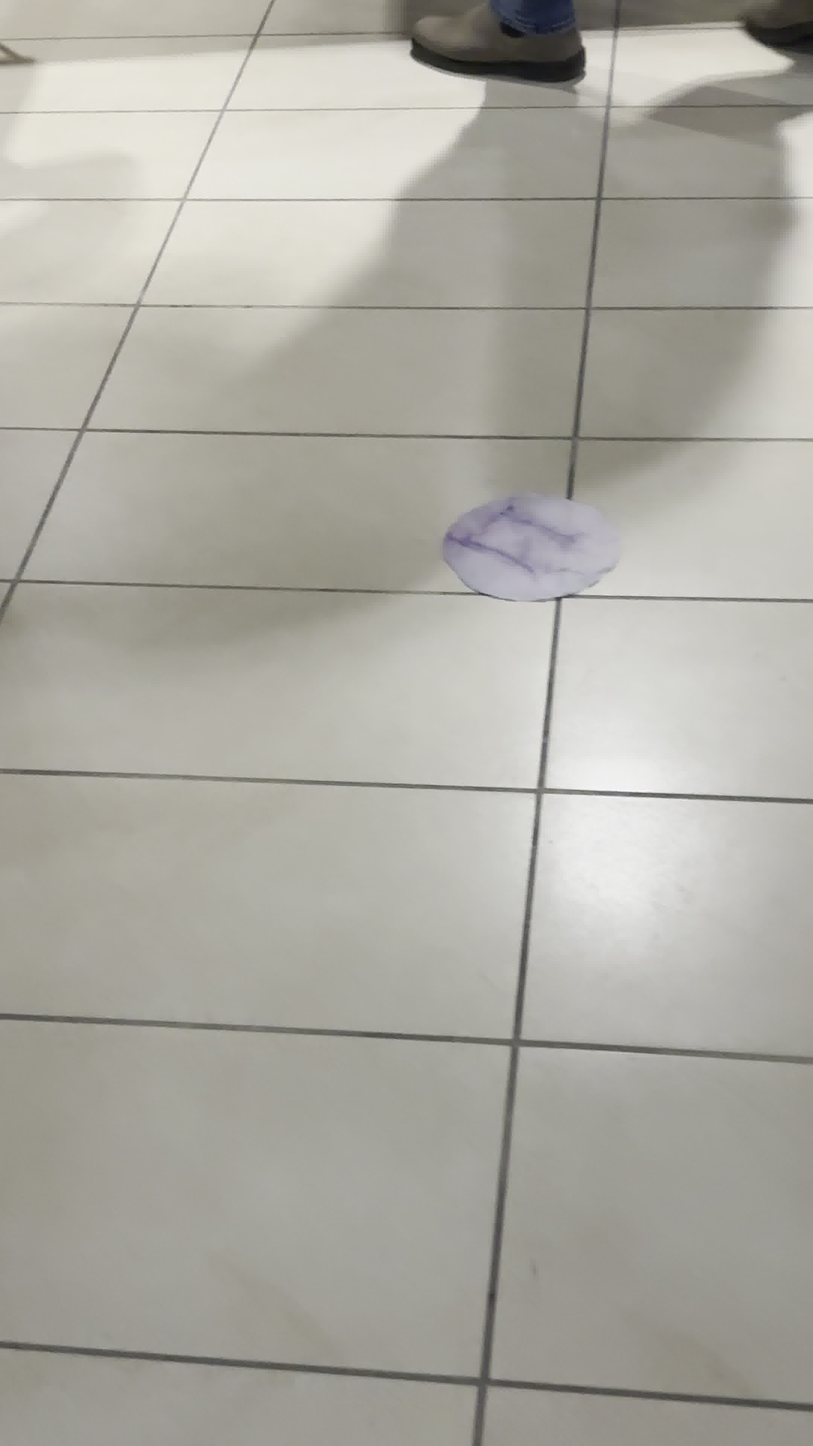Target: (441, 492, 621, 602)
